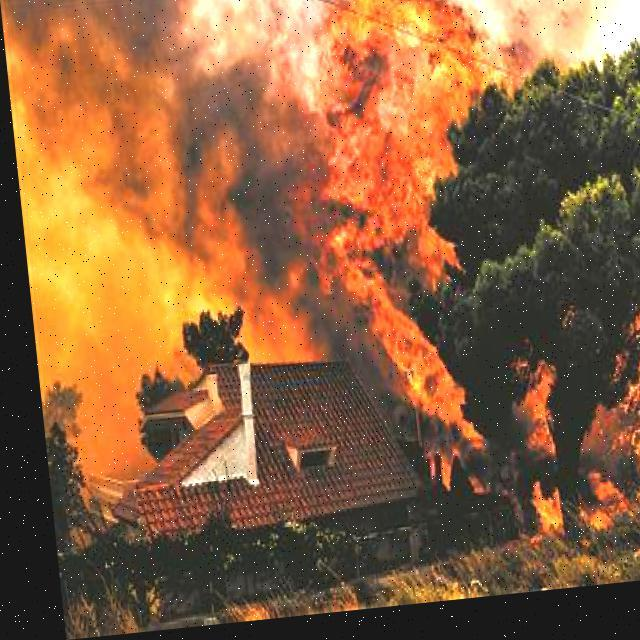Fire: (251, 0, 639, 565)
